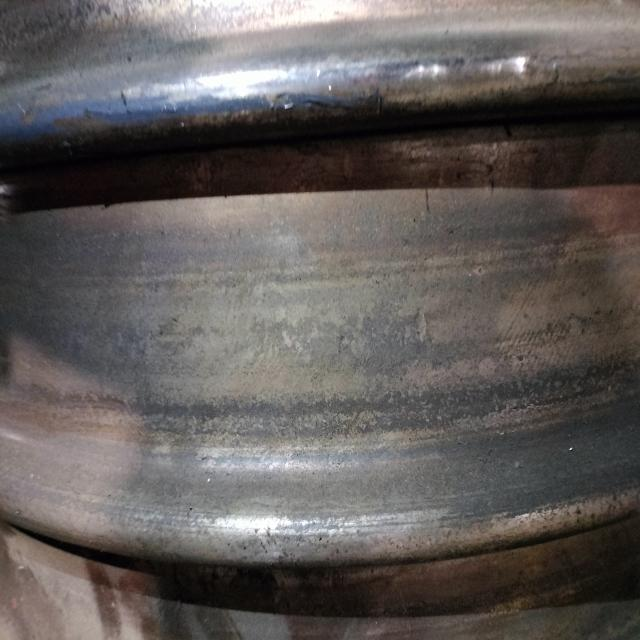Contact_Fatigue_Cracks: (42, 80, 400, 133)
Peeling: (462, 383, 627, 430), (272, 403, 393, 447)
